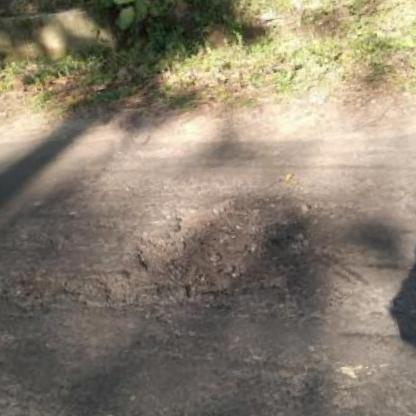pothole: (80, 184, 293, 331)
